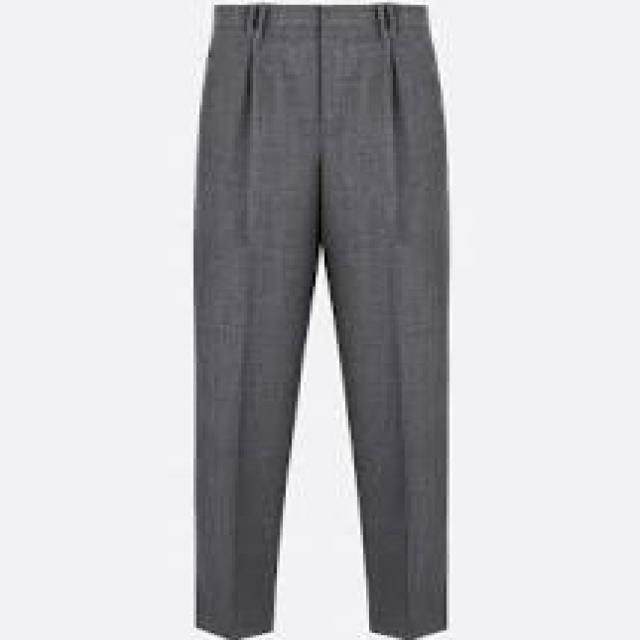long-pants: (188, 5, 454, 640)
